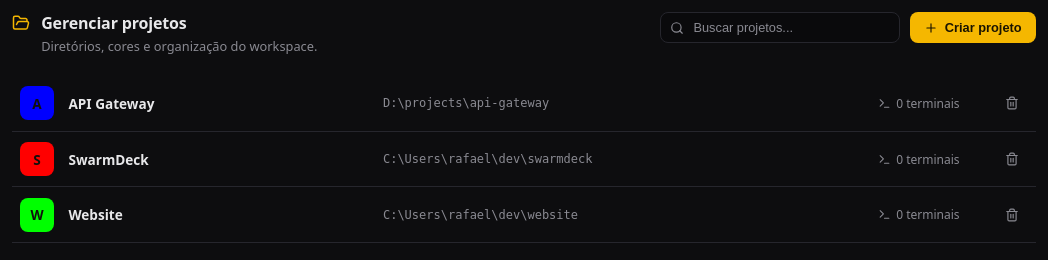
Test: ProjectsPanel › busca filtra por caminho (case-insensitive, substring)
Type "api-gateway" into the search field labelled "Buscar projetos" at (780, 28), box [660,12,900,43]
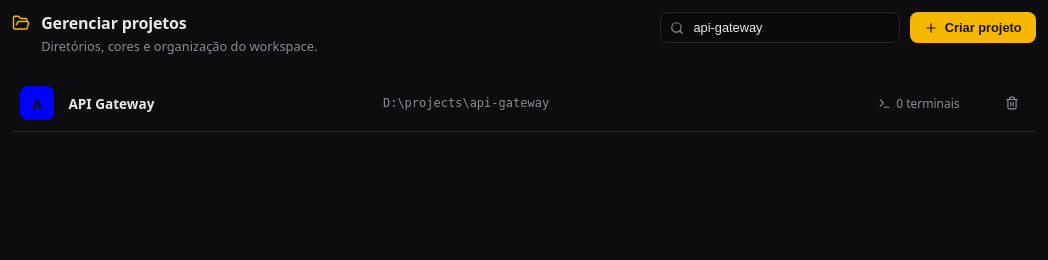
Check: the text "API Gateway" is shown, box [68,94,154,113]
Check: the text "SwarmDeck" is gone
Check: the text "Website" is gone
